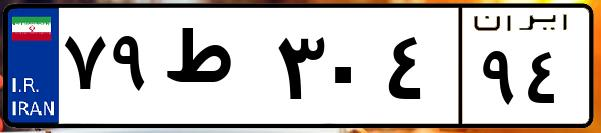0: (330, 28, 385, 110)
3: (270, 28, 330, 110)
4: (385, 28, 445, 110), (525, 38, 570, 115)
7: (57, 26, 110, 100)
9: (475, 38, 525, 113), (110, 28, 158, 98)
ط: (158, 20, 270, 120)
